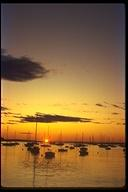sailboat: (1, 125, 19, 146), (55, 134, 69, 152), (95, 131, 109, 148)
sky: (2, 5, 124, 125)
sun: (43, 136, 51, 144)
water: (2, 159, 126, 186)
